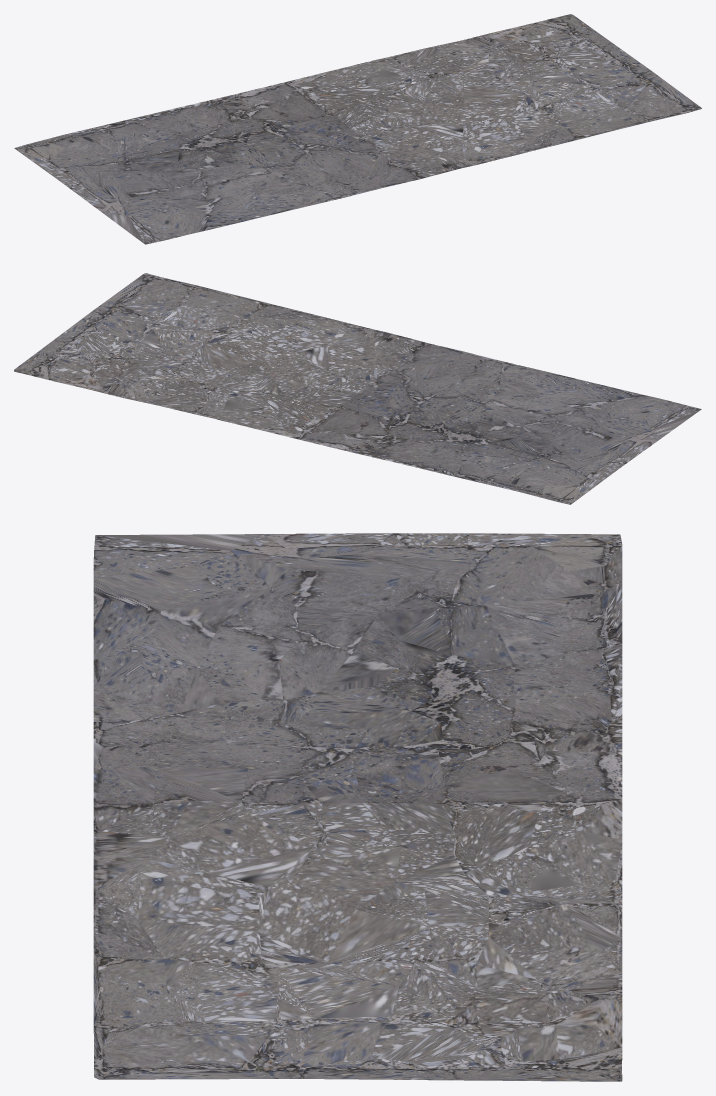
The model's file is Broken_road_white.fbx.
The picture shows the model from 3 angles, top to bottom: view 1: azimuth 30°, elevation 25°; view 2: azimuth 150°, elevation 25°; view 3: azimuth 270°, elevation 25°; orthographic projection. The views are drawn at different scales.
Visible parts, largest first — view 1: Broken_road_white; view 2: Broken_road_white; view 3: Broken_road_white.
Boxes of the visible parts, x1,y1,x2,y2 form: Broken_road_white: (14,14,701,244); Broken_road_white: (14,273,701,504); Broken_road_white: (93,533,622,1081).
Bounding box in the file's own units: 646 × 3.75 × 265.
Materials: 1 (1 with a texture image).
